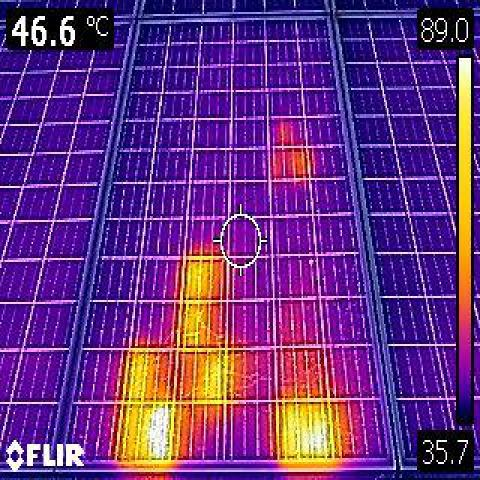fault: (283, 405, 329, 457), (126, 407, 170, 461), (181, 257, 212, 300), (201, 355, 226, 406), (131, 352, 154, 402), (184, 304, 207, 344)
